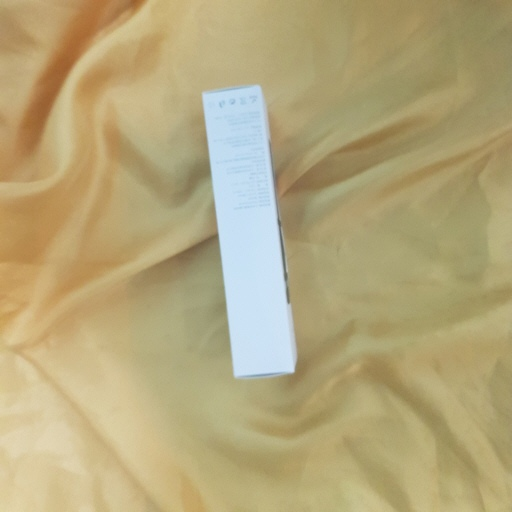Paper_0: (198, 82, 323, 384)
